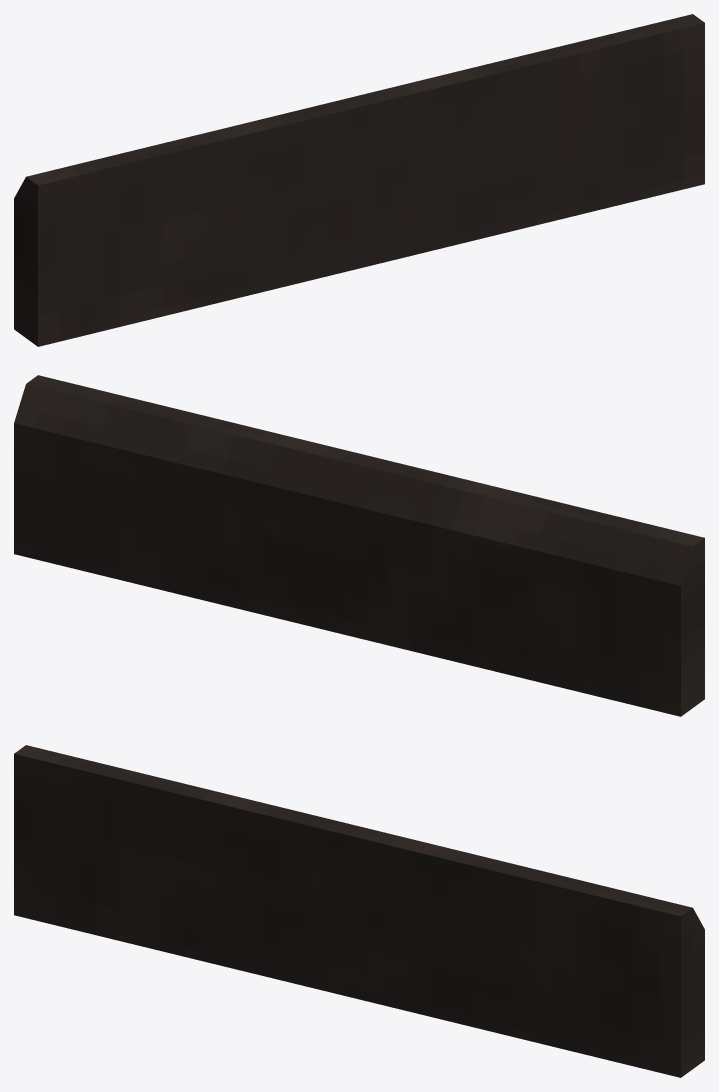
File: wallTrimStraight.gltf
3 views of the same model, one above another, from view 1: azimuth 30°, elevation 25°; view 2: azimuth 150°, elevation 25°; view 3: azimuth 330°, elevation 25° (orthographic).
Parts seen in each view (by area): view 1: wallTrim; view 2: wallTrim; view 3: wallTrim.
Part boxes in pixels (x1,y1,x2,y2): wallTrim: (14,14,704,346); wallTrim: (14,375,704,716); wallTrim: (14,745,704,1077).
Size of the model in its own units: 1 by 0.2313 by 0.0625.
Materials: 1 (1 with a texture image).
